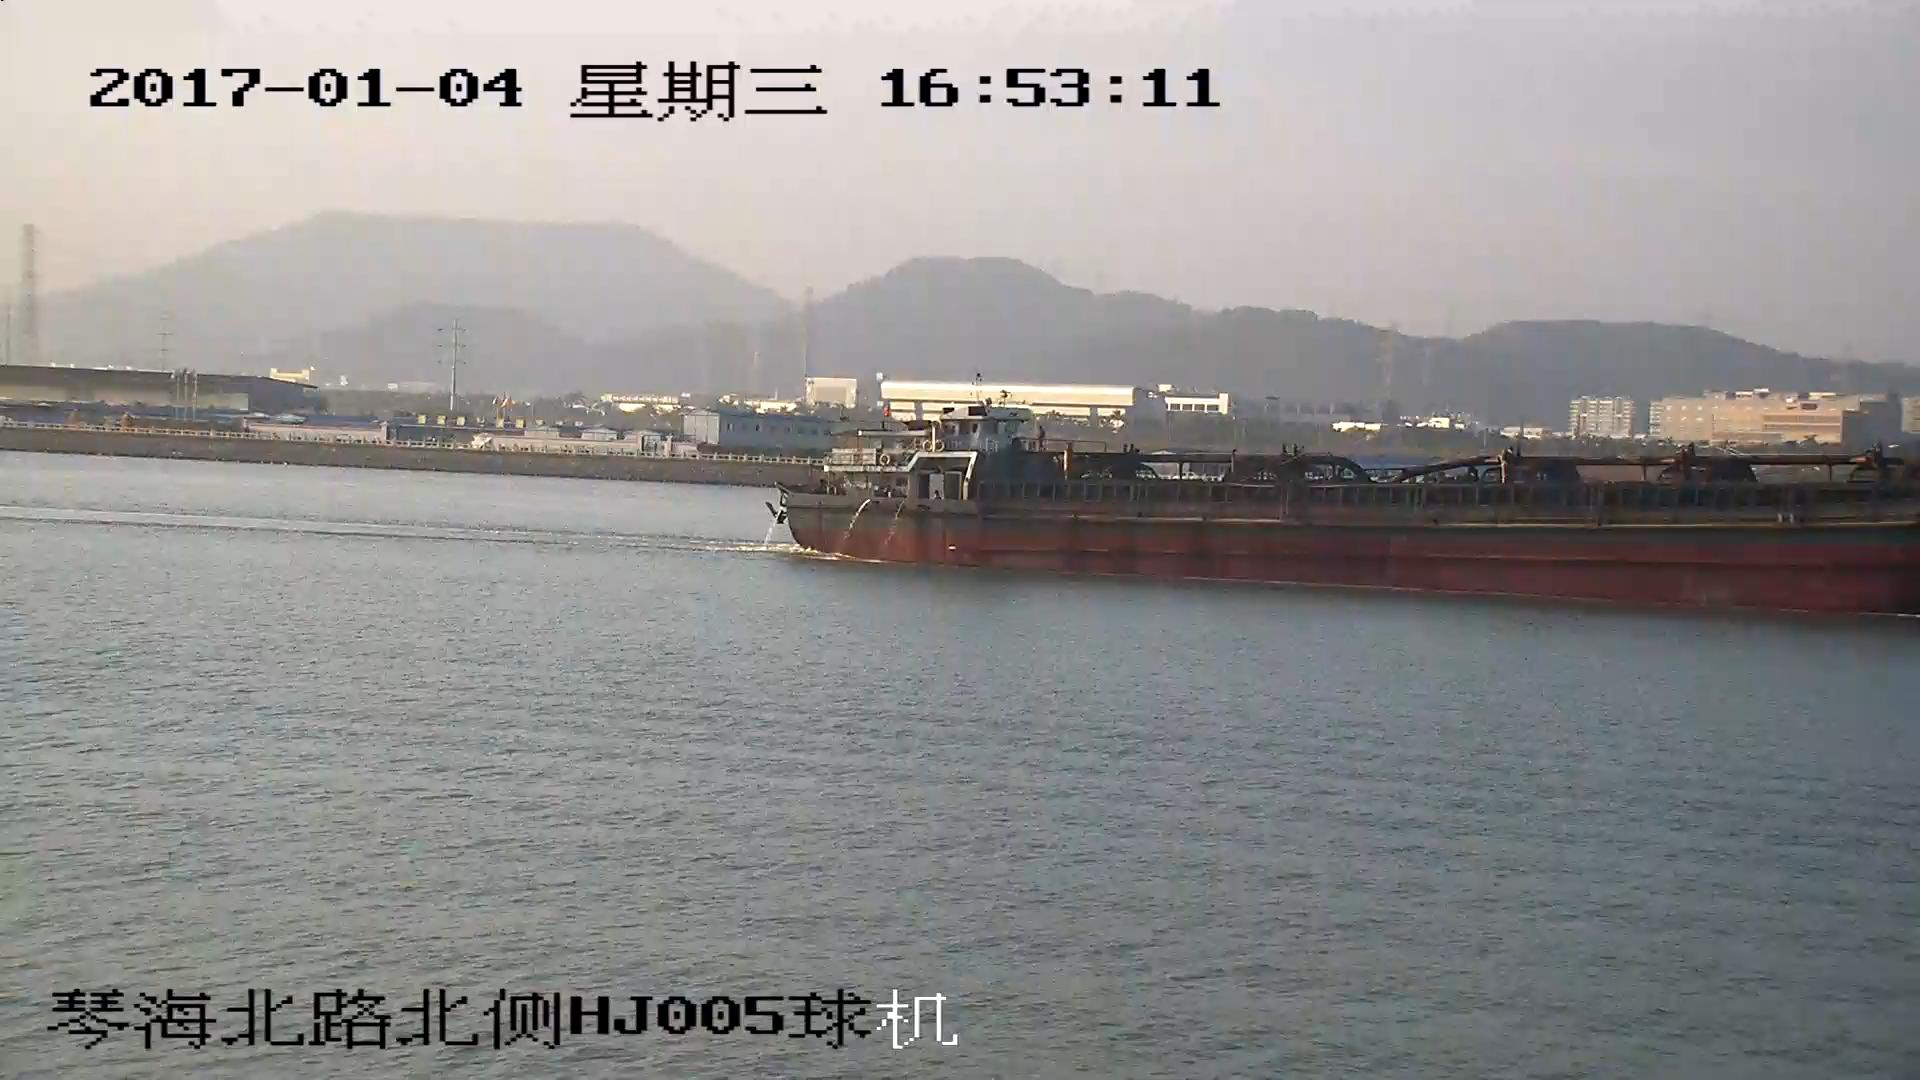bulk cargo carrier: (774, 402, 1920, 608)
